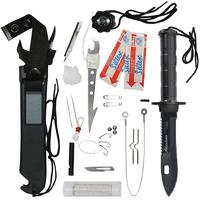knife: (150, 25, 190, 200), (80, 39, 103, 136)
